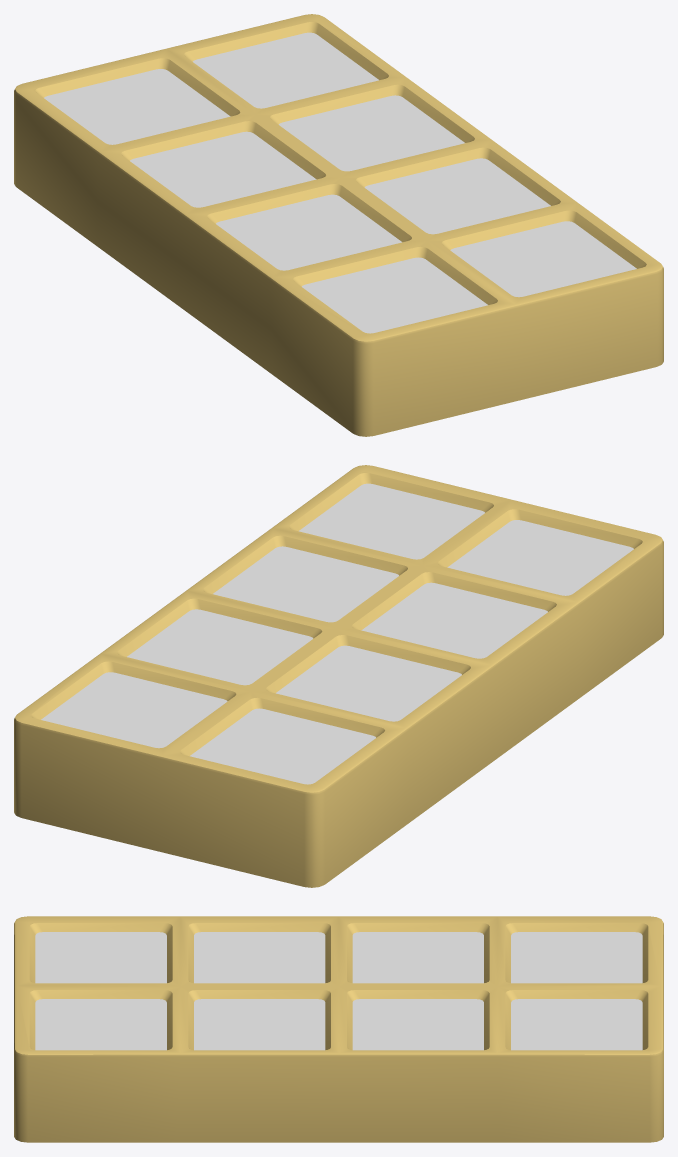
The picture shows the model from 3 angles, top to bottom: view 1: azimuth 30°, elevation 25°; view 2: azimuth 150°, elevation 25°; view 3: azimuth 270°, elevation 25°; orthographic projection. The views are drawn at different scales.
Parts seen in each view (by area): view 1: grid_2x4, gr2, gr7, gr3, gr8, gr1, gr4, gr6, gr5; view 2: grid_2x4, gr3, gr2, gr6, gr5, gr1, gr4, gr7, gr8; view 3: grid_2x4, gr5, gr8, gr1, gr4, gr6, gr7, gr3, gr2.
Part boxes in pixels (x1=…): grid_2x4: x1=14, y1=14, x2=663, y2=436; gr2: x1=279, y1=95, x2=464, y2=171; gr7: x1=216, y1=194, x2=401, y2=270; gr3: x1=364, y1=158, x2=550, y2=234; gr8: x1=302, y1=257, x2=487, y2=333; gr1: x1=193, y1=32, x2=378, y2=108; gr4: x1=450, y1=221, x2=636, y2=297; gr6: x1=130, y1=131, x2=316, y2=207; gr5: x1=44, y1=69, x2=230, y2=144; grid_2x4: x1=14, y1=465, x2=663, y2=887; gr3: x1=213, y1=546, x2=398, y2=622; gr2: x1=127, y1=609, x2=313, y2=685; gr6: x1=276, y1=645, x2=461, y2=721; gr5: x1=190, y1=708, x2=375, y2=784; gr1: x1=41, y1=672, x2=227, y2=748; gr4: x1=299, y1=483, x2=484, y2=559; gr7: x1=361, y1=582, x2=547, y2=658; gr8: x1=447, y1=520, x2=633, y2=595; grid_2x4: x1=14, y1=916, x2=663, y2=1142; gr5: x1=511, y1=932, x2=642, y2=983; gr8: x1=35, y1=932, x2=166, y2=983; gr1: x1=511, y1=999, x2=642, y2=1050; gr4: x1=35, y1=999, x2=166, y2=1050; gr6: x1=352, y1=932, x2=483, y2=983; gr7: x1=194, y1=932, x2=325, y2=983; gr3: x1=194, y1=999, x2=325, y2=1050; gr2: x1=352, y1=999, x2=483, y2=1050.
Size of the model in its own units: 2.08 by 0.6138 by 4.1.
